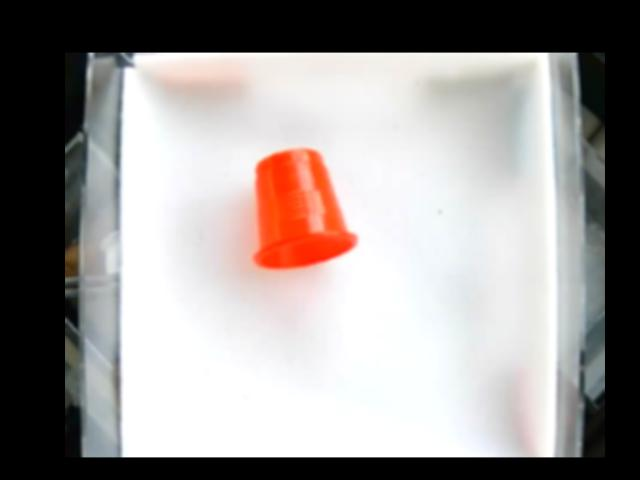Cup: (247, 148, 362, 268)
